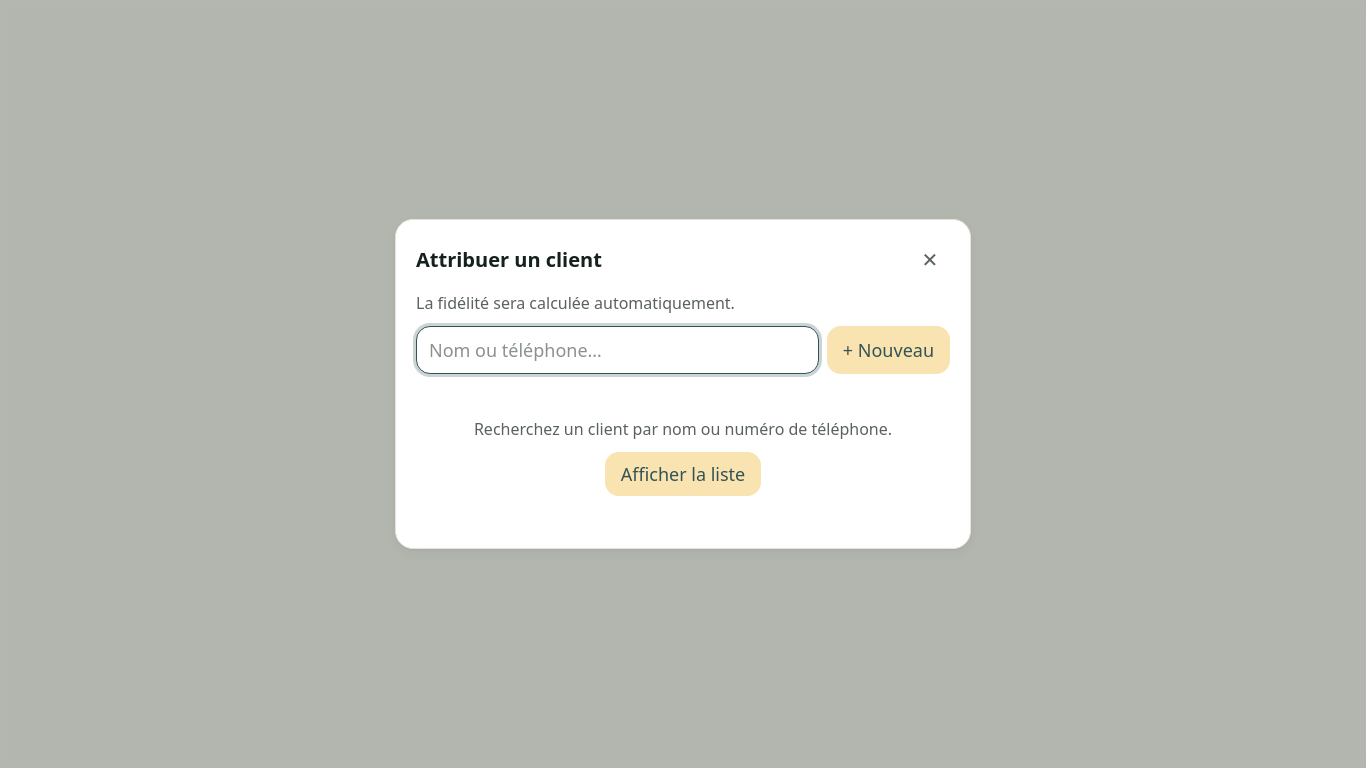
Test: Modale client post-vente (Ma Journée) › taper dans le champ déclenche la recherche (débounce)
The image size is (1366, 768).
Step 1. Type "Marie" into the field with placeholder "Nom ou téléphone…" → (617, 350), box [416, 326, 819, 374]
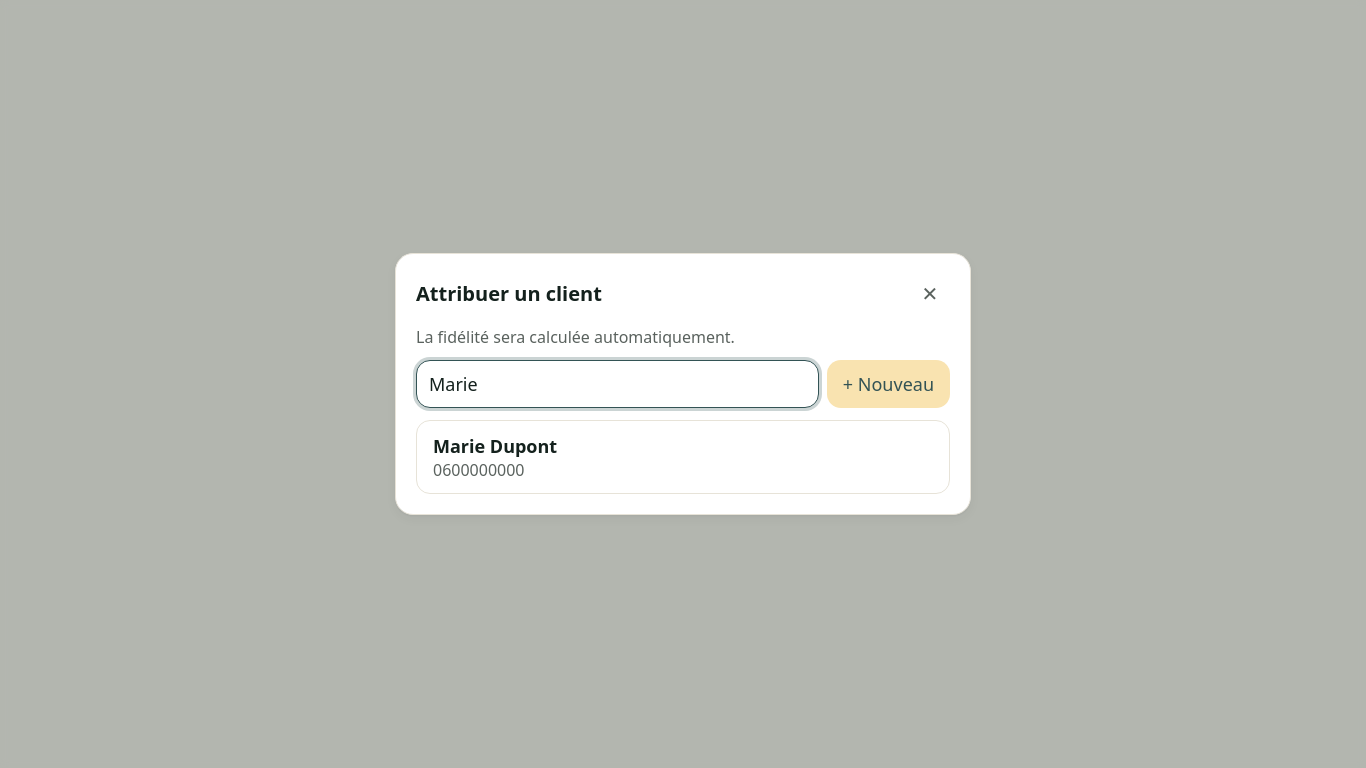
Check: the text "Marie Dupont" is shown, box [433, 434, 557, 458]
